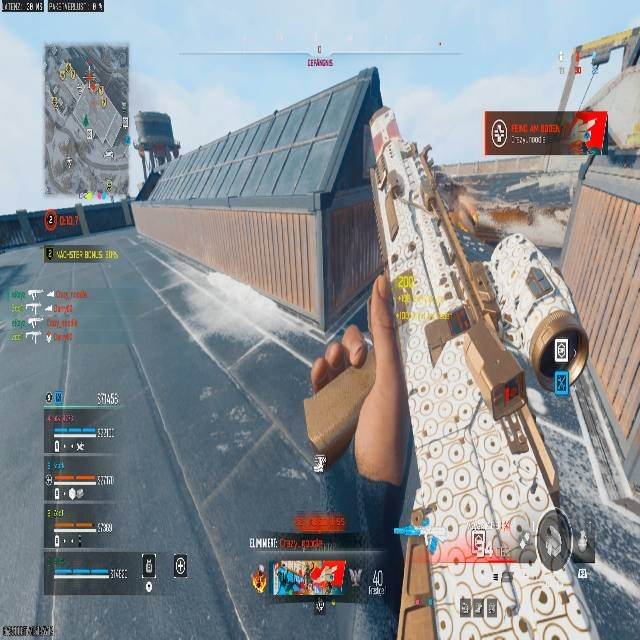player: (302, 257, 464, 489)
